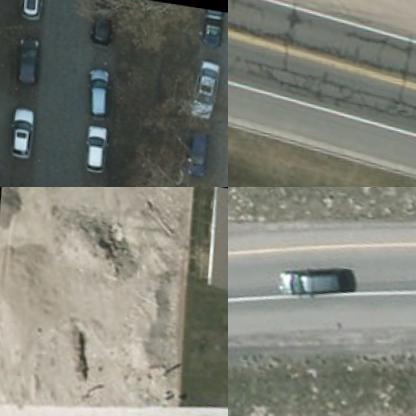car: (274, 262, 346, 304), (185, 56, 223, 118), (176, 124, 212, 180), (83, 66, 119, 119), (5, 107, 38, 160), (12, 32, 44, 86), (81, 123, 112, 178), (200, 7, 227, 51), (16, 0, 51, 24)
